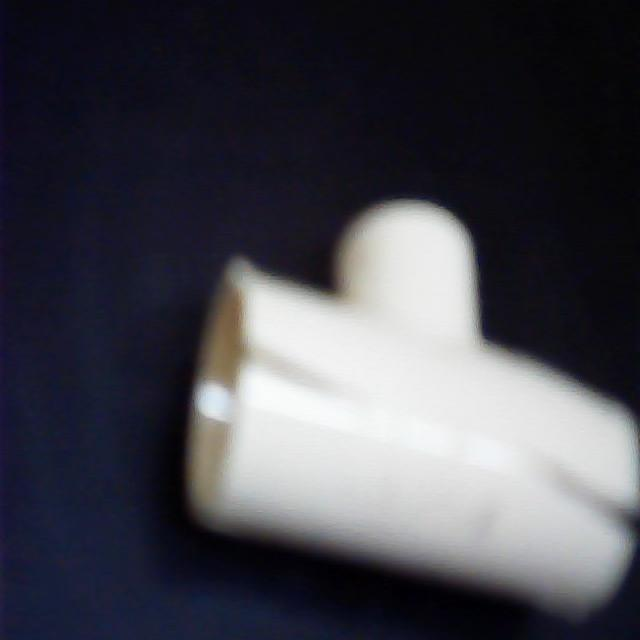Defective: (201, 321, 375, 434), (532, 429, 640, 559)
T Joint: (184, 201, 640, 625)
